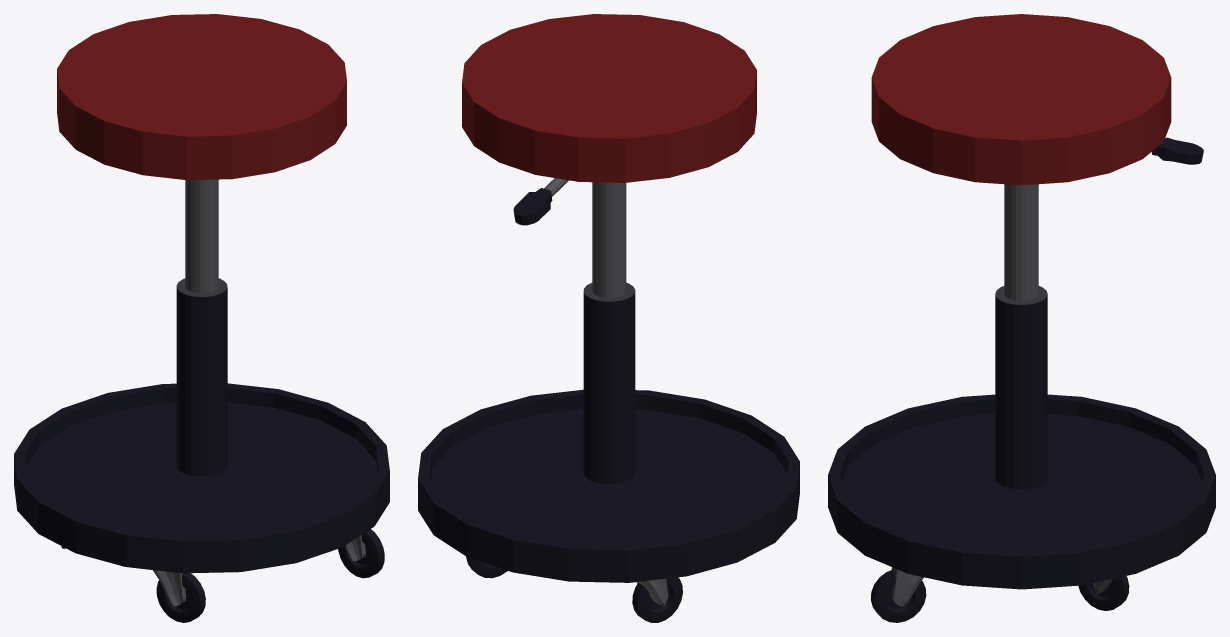
Rendered from WorkshopChair.fbx.
3 views of the same model, side by side, from view 1: azimuth 30°, elevation 25°; view 2: azimuth 150°, elevation 25°; view 3: azimuth 270°, elevation 25° (orthographic). The views are drawn at different scales.
Parts seen in each view (by area): view 1: Cube.001, Cube.006, Cube.005; view 2: Cube.001, Cube.004, Cube.002; view 3: Cube.001, Cube.005, Cube.003, Cube.002.
Part boxes in pixels (box(x1,y1,x2,y2)): Cube.001: box(14, 14, 389, 573); Cube.006: box(153, 570, 205, 622); Cube.005: box(338, 529, 384, 578); Cube.001: box(418, 14, 799, 582); Cube.004: box(632, 577, 682, 622); Cube.002: box(513, 178, 568, 225); Cube.001: box(828, 14, 1215, 589); Cube.005: box(870, 567, 926, 622); Cube.003: box(1078, 576, 1129, 610); Cube.002: box(1151, 137, 1203, 164).
Bounding box in the file's own units: 360 × 505 × 360.
